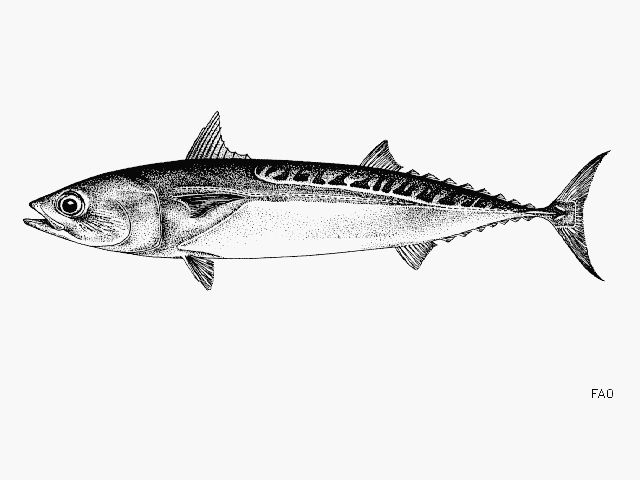fish: (23, 112, 608, 292)
